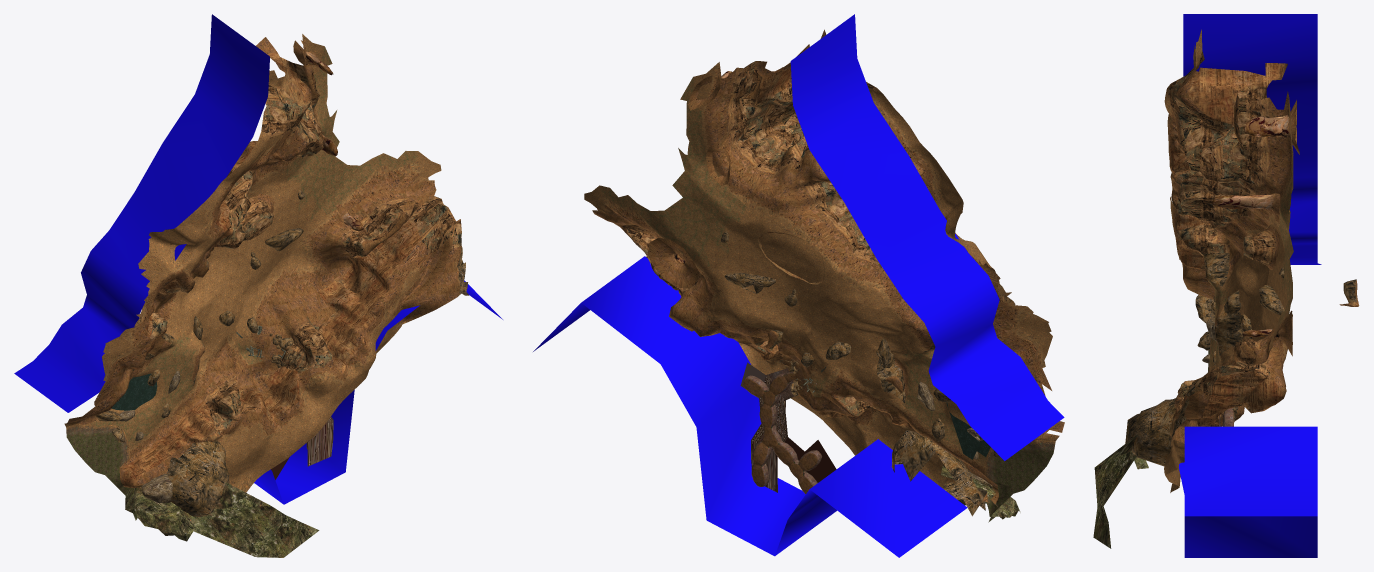
3 renders of one model, left to right at view 1: azimuth 30°, elevation 25°; view 2: azimuth 150°, elevation 25°; view 3: azimuth 270°, elevation 25°, orthographic. The views are drawn at different scales.
Visible parts, largest first — view 1: 3DSMesh_23, 3DSMesh_9, 3DSMesh_7, 3DSMesh_6, 3DSMesh_11, 3DSMesh_5, 3DSMesh_8, 3DSMesh_13, 3DSMesh_0, 3DSMesh_4, 3DSMesh_2, 3DSMesh_10 (+5 smaller); view 2: 3DSMesh_23, 3DSMesh_9, 3DSMesh_7, 3DSMesh_5, 3DSMesh_8, 3DSMesh_4, 3DSMesh_6, 3DSMesh_0, 3DSMesh_17, 3DSMesh_2, 3DSMesh_11, 3DSMesh_22 (+2 smaller); view 3: 3DSMesh_23, 3DSMesh_6, 3DSMesh_11, 3DSMesh_0, 3DSMesh_4, 3DSMesh_9, 3DSMesh_7, 3DSMesh_5, 3DSMesh_13, 3DSMesh_3, 3DSMesh_8.
Part boxes in pixels (x1,y1,x2,y2): 3DSMesh_23: (14,14,502,504); 3DSMesh_9: (99,37,460,492); 3DSMesh_7: (66,34,461,484); 3DSMesh_6: (149,57,461,434); 3DSMesh_11: (120,52,421,481); 3DSMesh_5: (64,37,459,426); 3DSMesh_8: (91,46,417,447); 3DSMesh_13: (125,482,319,557); 3DSMesh_0: (95,190,468,516); 3DSMesh_4: (154,40,441,415); 3DSMesh_2: (67,435,130,495); 3DSMesh_10: (119,343,203,488); 3DSMesh_23: (533,14,1064,557); 3DSMesh_9: (584,66,1052,487); 3DSMesh_7: (592,29,1064,487); 3DSMesh_5: (604,61,1059,493); 3DSMesh_8: (599,77,1030,463); 3DSMesh_4: (615,64,895,422); 3DSMesh_6: (620,61,994,416); 3DSMesh_0: (636,231,998,516); 3DSMesh_17: (740,362,836,494); 3DSMesh_2: (987,451,1053,516); 3DSMesh_11: (634,44,1025,485); 3DSMesh_22: (946,402,990,459); 3DSMesh_23: (1178,14,1321,557); 3DSMesh_6: (1168,51,1275,422); 3DSMesh_11: (1170,63,1358,426); 3DSMesh_0: (1125,252,1356,466); 3DSMesh_4: (1178,97,1299,406); 3DSMesh_9: (1164,29,1292,492); 3DSMesh_7: (1166,45,1292,445); 3DSMesh_5: (1172,63,1357,443); 3DSMesh_13: (1093,434,1148,548); 3DSMesh_3: (1211,114,1289,338); 3DSMesh_8: (1208,131,1293,366).
Bounding box in the file's own units: 22478 × 23301 × 10450.
